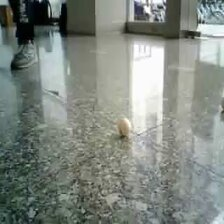w: (116, 118, 133, 137)
